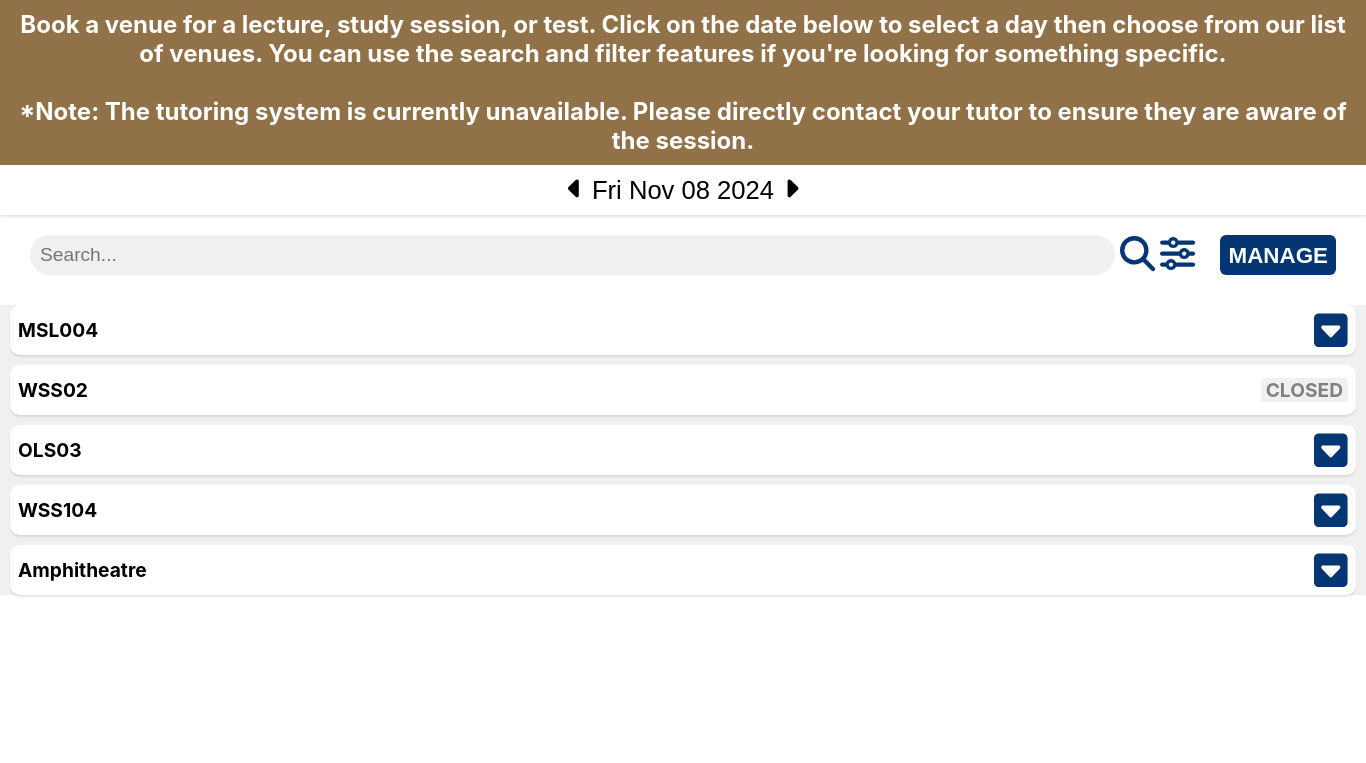
Venues › Renders Correct Venue Details in VenueRow
The image size is (1366, 763).
Click the heading "MSL004" at [58, 330], box [18,318,98,342]
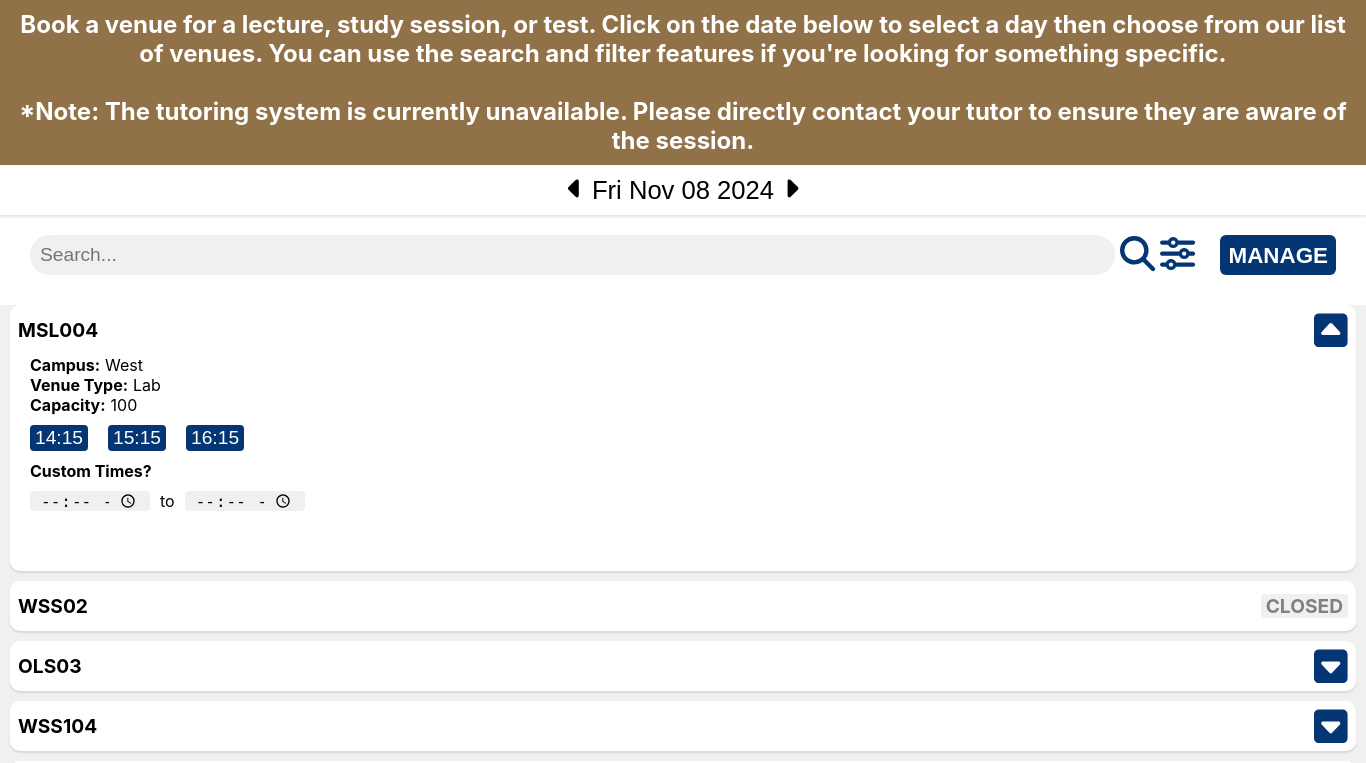
Now the text "West" is shown 4 times
Now the text "Lab" is shown, box [133,375,161,395]
Now the text "100" is shown, box [111,395,137,415]
